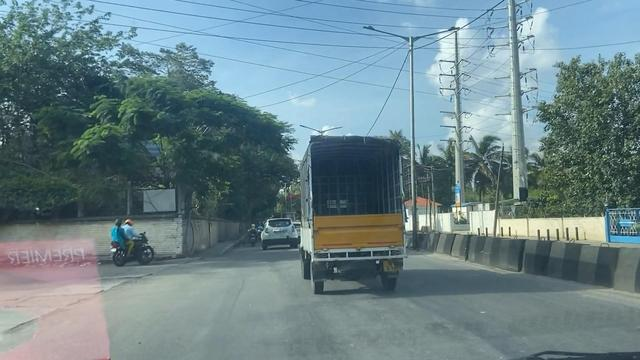HMV: (301, 137, 408, 288)
LMV: (262, 220, 297, 248)
RoadDamages: (0, 269, 168, 339)
